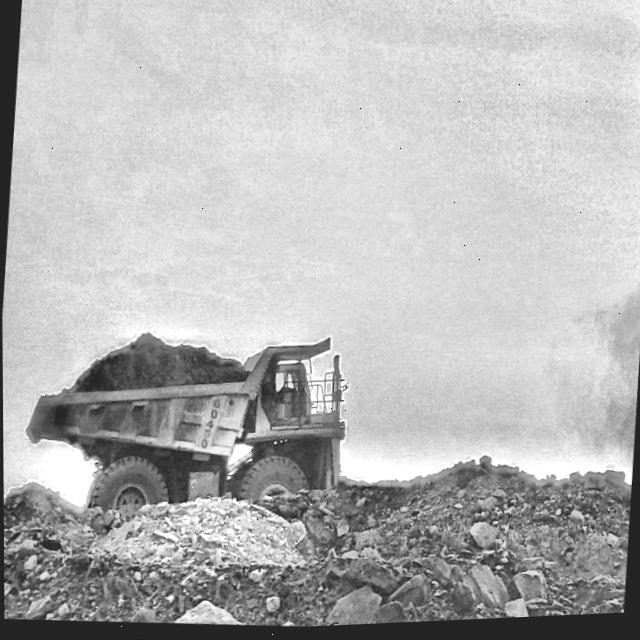dump_truck: (26, 336, 344, 516)
